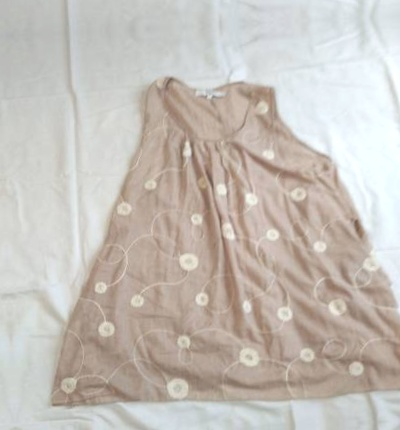Dress: (22, 49, 400, 426), (0, 0, 400, 1)
